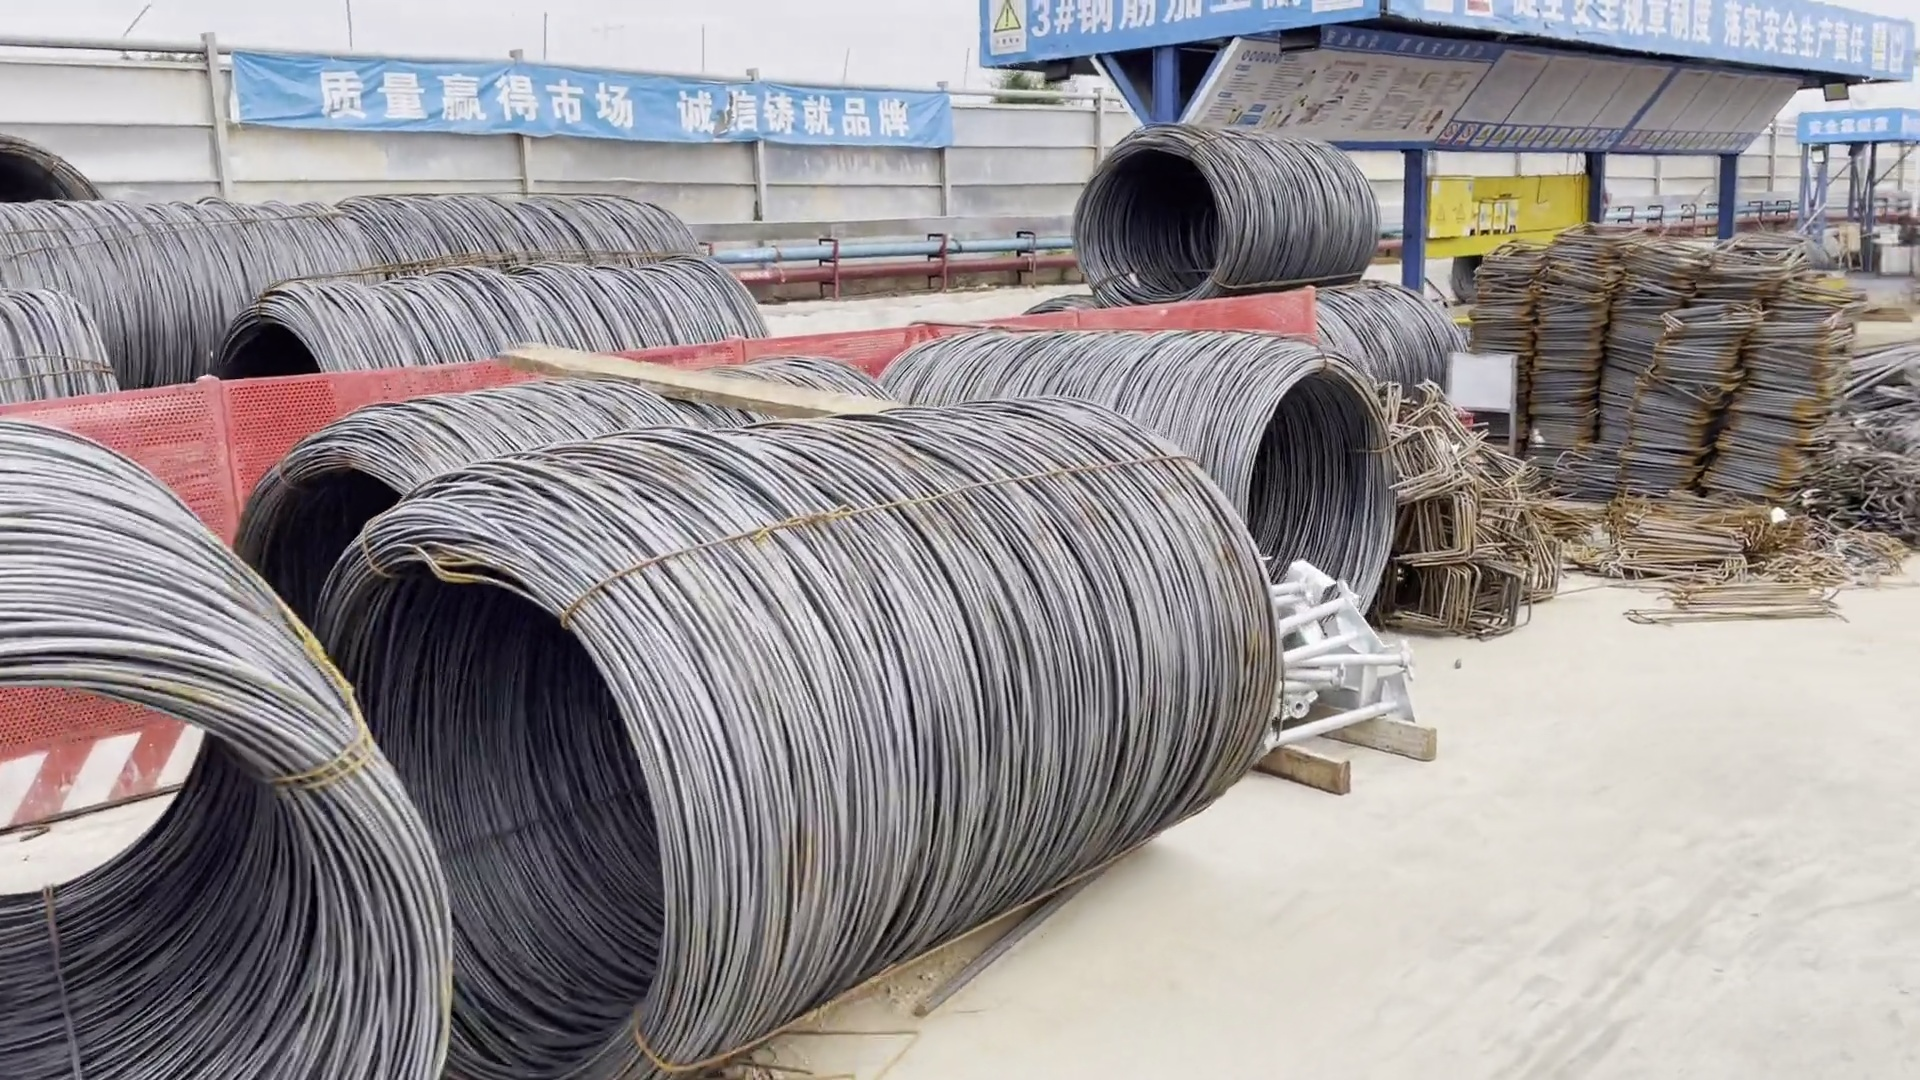ebox: (1425, 175, 1474, 237)
slogan: (322, 83, 936, 135)
